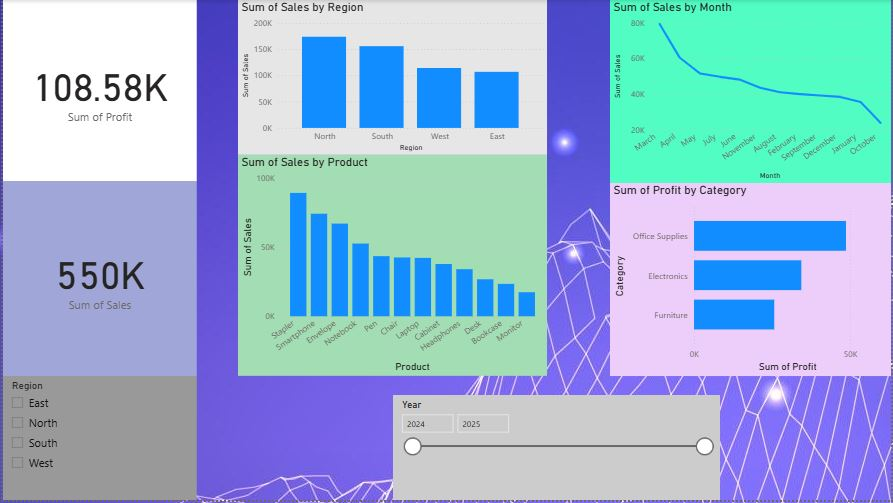

This screenshot's page, from the dashboard's own definition file:
{"tool":"powerbi","page":{"name":"Page 1","canvas":[1280,720],"ordinal":0},"visuals":[{"type":"card","fields":{"Values":["Sum(Sheet1.Profit)"]},"box":[10,0,280,280],"z":0},{"type":"card","fields":{"Values":["Sum(Sheet1.Sales)"]},"box":[10,290,280,280],"z":1000},{"type":"clusteredColumnChart","fields":{"Category":["Sheet1.Region"],"Y":["Sum(Sheet1.Sales)"]},"box":[341,18.5,280.5,151.2],"z":1001},{"type":"clusteredColumnChart","fields":{"Category":["Sheet1.Product"],"Y":["Sum(Sheet1.Sales)"]},"box":[290.6,199.9,445.1,319.2],"z":1002},{"type":"lineChart","fields":{"Category":["Sheet1.Month"],"Y":["Sum(Sheet1.Sales)"]},"box":[745.8,18.5,330.9,223.4],"z":1003},{"type":"barChart","fields":{"Category":["Sheet1.Category"],"Y":["Sum(Sheet1.Profit)"]},"box":[745.8,240.2,406.5,278.8],"z":1004},{"type":"slicer","fields":{"Values":["Sheet1.Region"]},"box":[10,570,280,150],"z":1005},{"type":"slicer","fields":{"Values":["Sheet1.Year"]},"box":[290.6,569.4,470.3,151.2],"z":1006}]}

Visuals, with their boxes in screenshot pixels (x1, y1, x2, y2), scaled from the page's 1280x720 canvas onto the 893x503 screenshot:
card - Sum(Sheet1.Profit): BBox(7, 0, 202, 196)
card - Sum(Sheet1.Sales): BBox(7, 203, 202, 398)
clusteredColumnChart - Sheet1.Region x Sum(Sheet1.Sales): BBox(238, 13, 434, 119)
clusteredColumnChart - Sheet1.Product x Sum(Sheet1.Sales): BBox(203, 140, 513, 363)
lineChart - Sheet1.Month x Sum(Sheet1.Sales): BBox(520, 13, 751, 169)
barChart - Sheet1.Category x Sum(Sheet1.Profit): BBox(520, 168, 804, 363)
slicer - Sheet1.Region: BBox(7, 398, 202, 502)
slicer - Sheet1.Year: BBox(203, 398, 531, 502)
